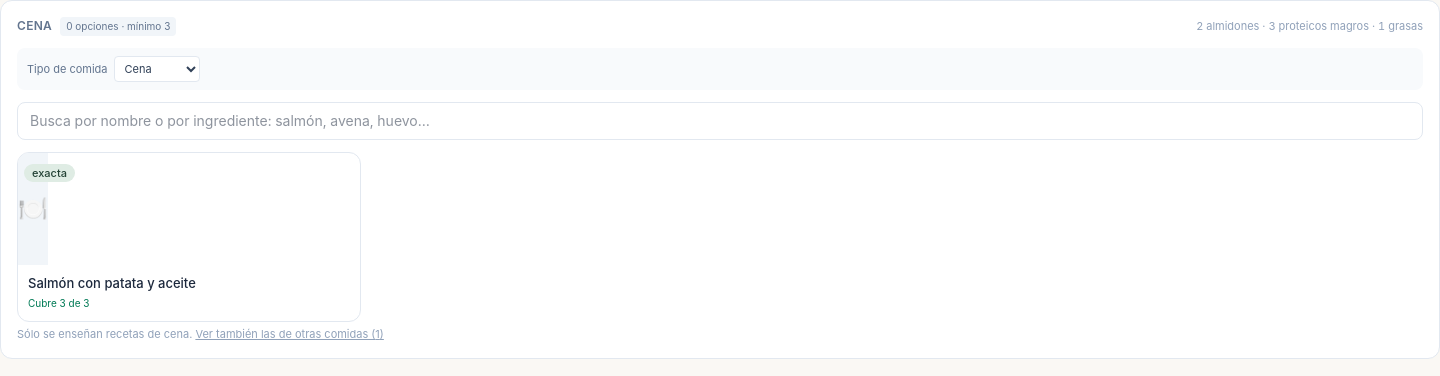
Test case: Buscar › se salta el filtro de comida
Type "porridge" into the field with placeholder "Busca por nombre o por ingrediente: salmón, avena, huevo…". click: (720, 121)
box: [17,102,1423,140]
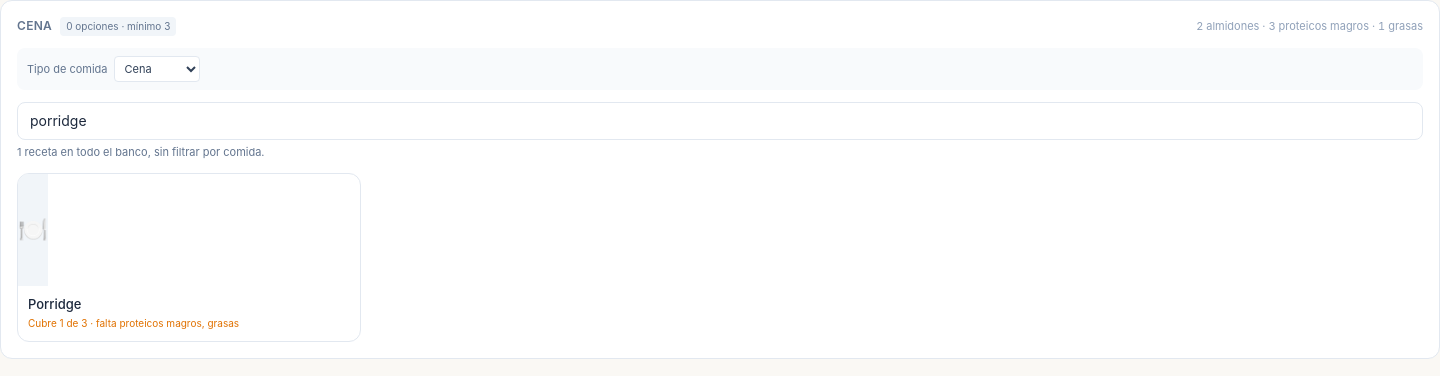
Check: the text "Porridge" is shown, box [28,296,81,312]
